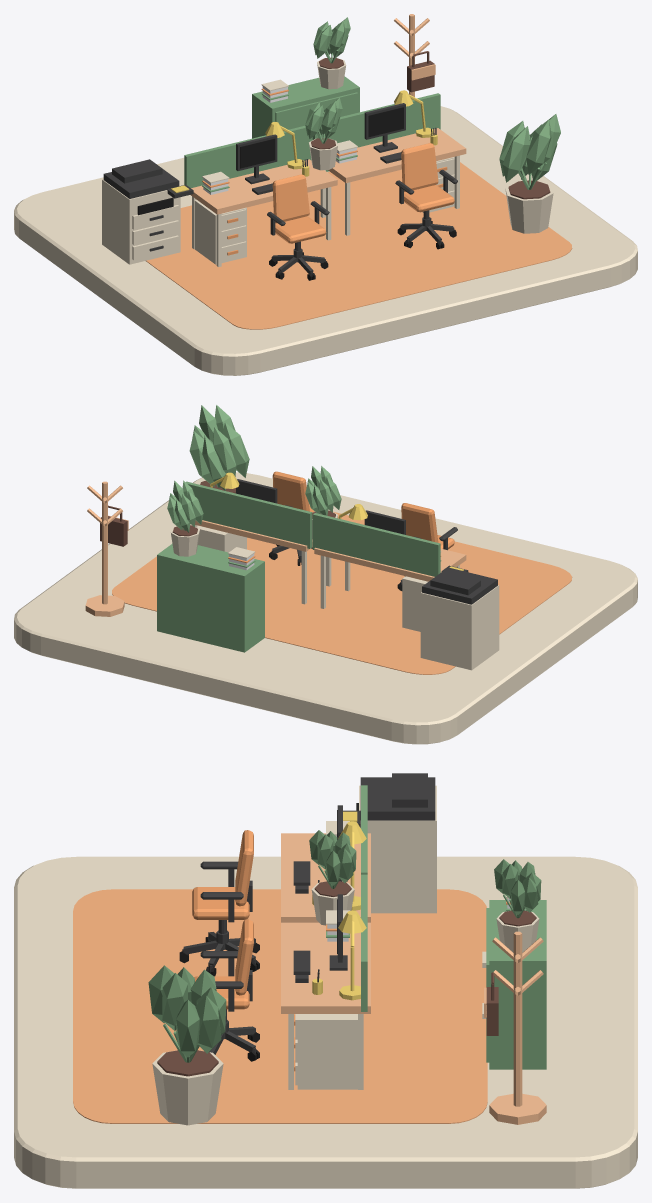
File: office.fbx
3 renders of one model, top to bottom at view 1: azimuth 30°, elevation 25°; view 2: azimuth 150°, elevation 25°; view 3: azimuth 270°, elevation 25°, orthographic. The views are drawn at different scales.
Parts seen in each view (by area): view 1: AST-001-0, AST-002-0, AST-009-0, AST-010-2, AST-003-0, AST-003-1, AST-004-0, AST-004-1, AST-015-0, AST-013-0, AST-008-0, AST-013-1 (+9 smaller); view 2: AST-001-0, AST-002-0, AST-015-0, AST-009-0, AST-013-0, AST-013-1, AST-010-2, AST-010-1, AST-016-0, AST-004-0, AST-003-0, AST-010-0 (+8 smaller); view 3: AST-001-0, AST-002-0, AST-009-0, AST-010-2, AST-004-1, AST-015-0, AST-008-1, AST-003-0, AST-016-0, AST-004-0, AST-003-1, AST-010-1 (+7 smaller).
Part boxes in pixels (x1,y1,x2,y2): AST-001-0: (14, 106, 637, 375); AST-002-0: (146, 162, 572, 329); AST-009-0: (102, 159, 193, 264); AST-010-2: (499, 114, 560, 233); AST-003-0: (267, 174, 329, 280); AST-003-1: (395, 143, 457, 249); AST-004-0: (190, 159, 337, 267); AST-004-1: (320, 128, 466, 235); AST-015-0: (252, 76, 359, 171); AST-013-0: (184, 125, 312, 187); AST-008-0: (194, 199, 246, 264); AST-013-1: (312, 93, 440, 147); AST-001-0: (14, 472, 637, 744); AST-002-0: (112, 511, 572, 674); AST-015-0: (157, 543, 264, 652); AST-009-0: (420, 565, 499, 670); AST-013-0: (312, 513, 440, 576); AST-013-1: (185, 481, 312, 548); AST-010-2: (189, 405, 249, 493); AST-010-1: (167, 480, 203, 556); AST-016-0: (85, 481, 124, 616); AST-004-0: (314, 547, 466, 608); AST-003-0: (397, 503, 457, 590); AST-010-0: (305, 466, 341, 538); AST-001-0: (14, 856, 637, 1188); AST-002-0: (73, 889, 487, 1123); AST-009-0: (343, 773, 436, 913); AST-010-2: (148, 965, 226, 1125); AST-004-1: (281, 922, 370, 1089); AST-015-0: (482, 900, 546, 1069); AST-008-1: (294, 1014, 357, 1089); AST-003-0: (179, 830, 259, 976); AST-016-0: (489, 931, 546, 1124); AST-004-0: (281, 833, 370, 922); AST-003-1: (194, 919, 259, 1061); AST-010-1: (494, 859, 541, 952).
Size of the model in its own units: 600 by 216 by 520.
